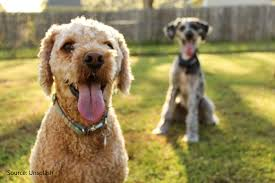dog: (57, 35, 122, 122)
